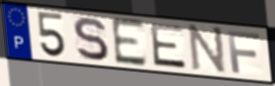5: (35, 11, 66, 59)
E: (109, 16, 149, 69), (148, 22, 188, 71)
F: (226, 29, 263, 75)
N: (188, 24, 228, 77)
S: (71, 15, 111, 62)
